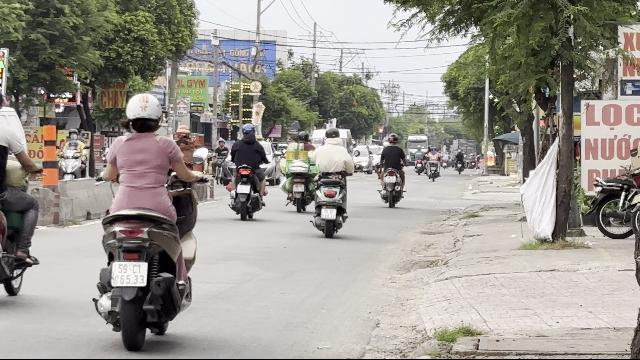helmet: (123, 92, 163, 134), (324, 126, 340, 142)
licenseplate: (112, 262, 146, 286), (320, 209, 336, 219)
motorcyclist: (90, 92, 204, 349), (310, 125, 354, 237)
